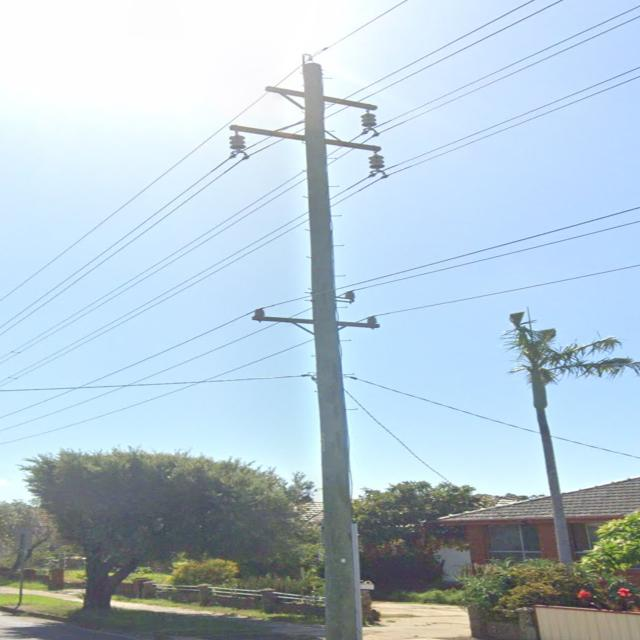HV-transmission: (225, 54, 391, 178), (252, 290, 378, 329)
crossarm: (230, 125, 384, 147), (265, 85, 379, 107), (253, 317, 383, 328)
timber-pole: (303, 64, 366, 630)
